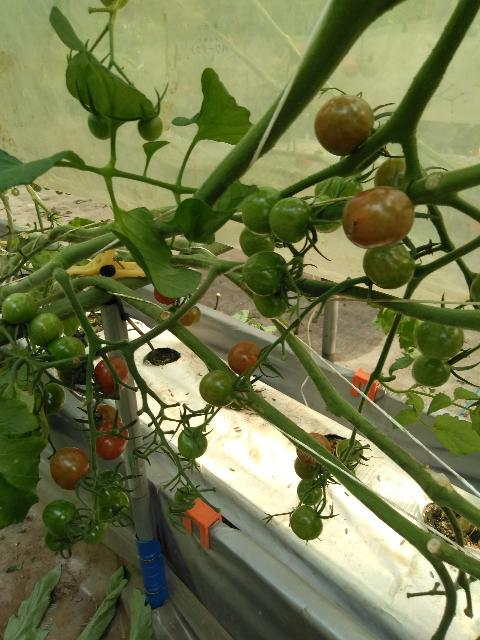l_fully_ripened: (94, 357, 128, 397), (96, 421, 129, 460), (154, 287, 178, 305)
l_green: (362, 240, 414, 289), (413, 319, 465, 360), (269, 197, 314, 244), (242, 251, 287, 296), (242, 187, 283, 236), (42, 499, 79, 538), (46, 336, 86, 372), (198, 370, 235, 407), (310, 195, 346, 233), (411, 354, 451, 388), (90, 470, 125, 507), (28, 313, 63, 347), (290, 505, 323, 541), (253, 286, 288, 319), (1, 292, 37, 324), (239, 227, 276, 258), (177, 427, 207, 459), (98, 492, 129, 522), (40, 382, 66, 416), (331, 175, 363, 202), (82, 515, 108, 545), (44, 530, 78, 552), (137, 115, 163, 143), (297, 479, 323, 505), (335, 439, 364, 462), (294, 456, 320, 481), (88, 112, 110, 140), (173, 486, 196, 511)
l_half_ripened: (342, 185, 415, 250), (314, 94, 374, 157), (51, 446, 90, 490), (227, 341, 262, 376), (297, 432, 331, 467), (373, 154, 406, 188), (92, 404, 122, 429), (177, 304, 201, 328)
